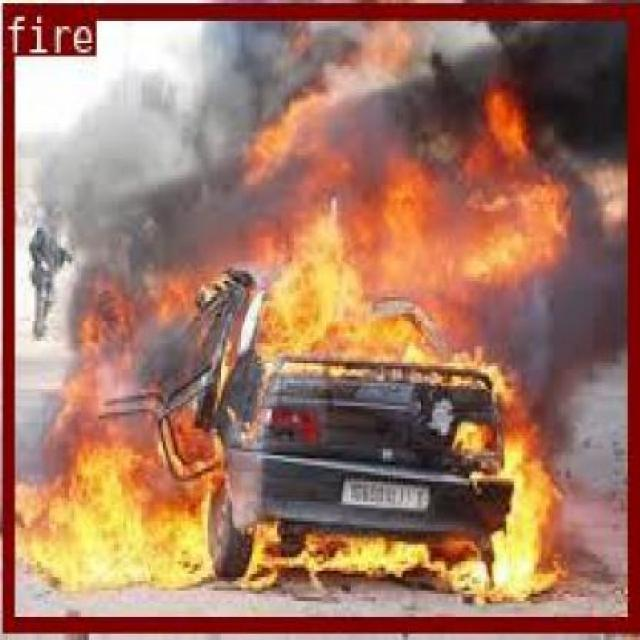Fire: (2, 0, 636, 628)
